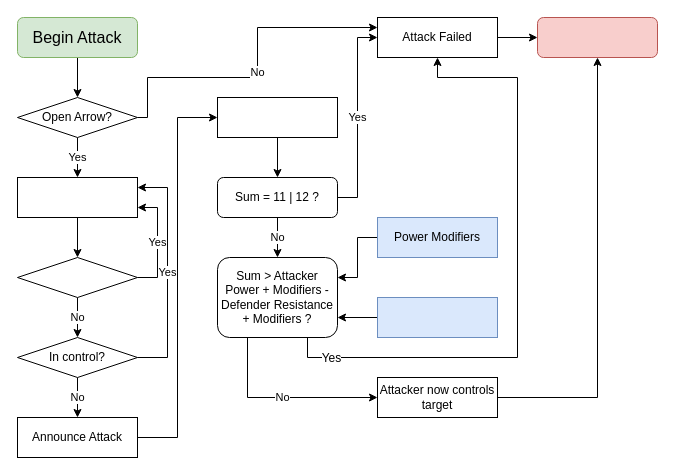
The diagram is 675 pixels wide and 475 high, and some of its shapes have lost their labels. Here are the shapes that lost their labels. From the top down, the centre of each, then its label:
At point 597,37: "End Attack".
At point 277,117: "Roll 2 Dice".
At point 77,197: "Select Group".
At point 77,277: "Illuminati?".
At point 437,317: "Resistance Modifiers".
